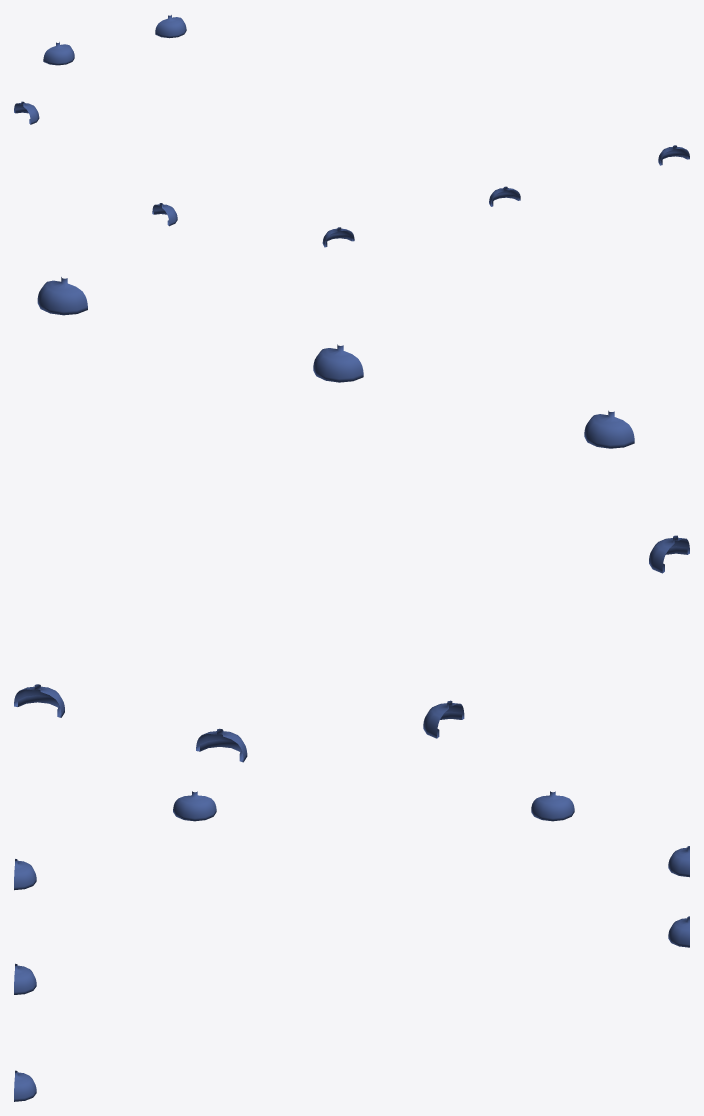
File: Lampadas.fbx
3 views of the same model, one above another, from view 1: azimuth 30°, elevation 25°; view 2: azimuth 150°, elevation 25°; view 3: azimuth 270°, elevation 25° (orthographic). The views are drawn at different scales.
Visible parts, largest first — view 1: Lampada.001, Lampada.002; view 2: Lampada.007, Lampada.006, Lampada.005, Lampada.002, Lampada.001, Lampada.003, Lampada.004; view 3: Lampada.004, Lampada.003, Lampada.005, Lampada.006, Lampada.007, Lampada.001, Lampada.002.
Boxes of the visible parts, x1,y1,x2,y2 form: Lampada.001: [155, 15, 186, 38]; Lampada.002: [43, 42, 74, 65]; Lampada.007: [37, 277, 87, 315]; Lampada.006: [313, 344, 363, 382]; Lampada.005: [584, 410, 634, 448]; Lampada.002: [196, 728, 247, 762]; Lampada.001: [14, 684, 64, 717]; Lampada.003: [423, 700, 464, 738]; Lampada.004: [649, 535, 689, 573]; Lampada.004: [173, 791, 216, 821]; Lampada.003: [531, 791, 574, 821]; Lampada.005: [14, 859, 36, 890]; Lampada.006: [14, 963, 36, 994]; Lampada.007: [14, 1070, 36, 1101]; Lampada.001: [668, 916, 689, 947]; Lampada.002: [668, 846, 689, 877].
Bounding box in the file's own units: 490 × 16.62 × 483.
